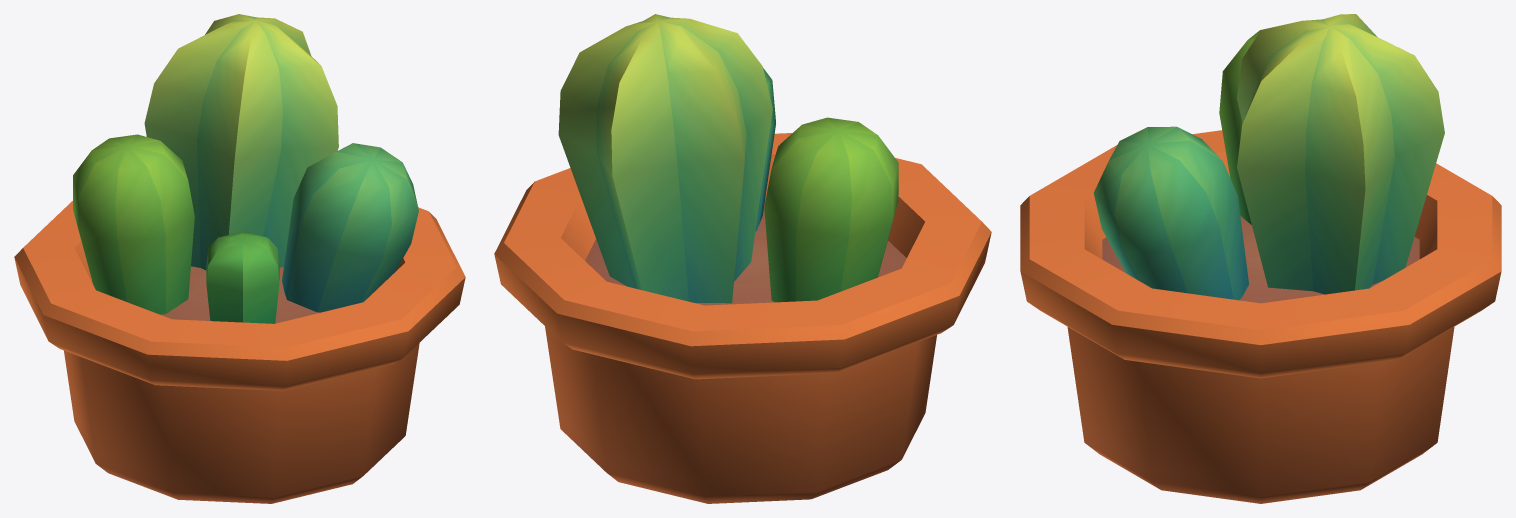
File: kay-cacto-medio.gltf
3 views of the same model, side by side, from view 1: azimuth 30°, elevation 25°; view 2: azimuth 150°, elevation 25°; view 3: azimuth 270°, elevation 25° (orthographic). The views are drawn at different scales.
Visible parts, largest first — view 1: cactus_medium_B; view 2: cactus_medium_B; view 3: cactus_medium_B.
Boxes of the visible parts, bbox=[...] form: cactus_medium_B: bbox=[14, 14, 465, 503]; cactus_medium_B: bbox=[494, 14, 991, 503]; cactus_medium_B: bbox=[1020, 14, 1501, 503].
Size of the model in its own units: 0.5719 by 0.5377 by 0.5439.
Materials: 1 (1 with a texture image).
